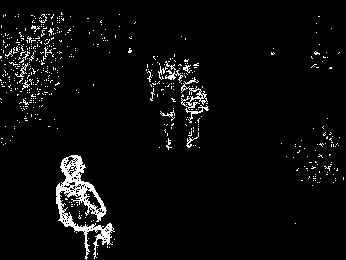person: (50, 144, 114, 256), (181, 71, 211, 150), (156, 74, 178, 149)
